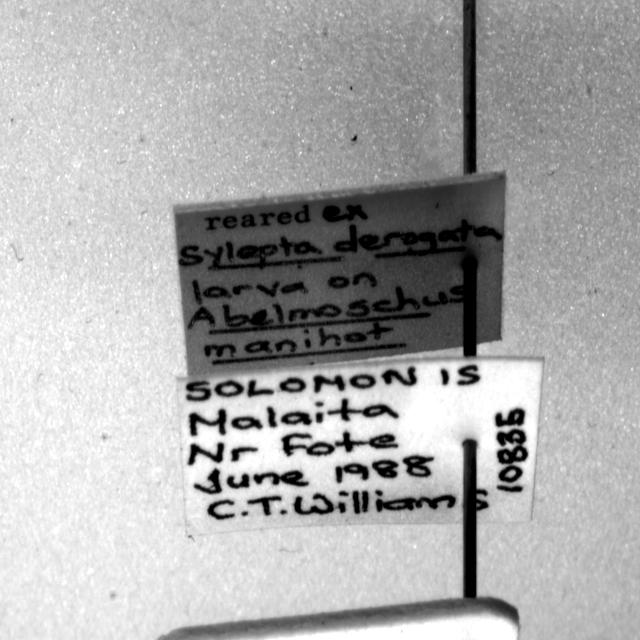hand_label: (178, 356, 544, 534)
mixed_label: (175, 174, 505, 375)
